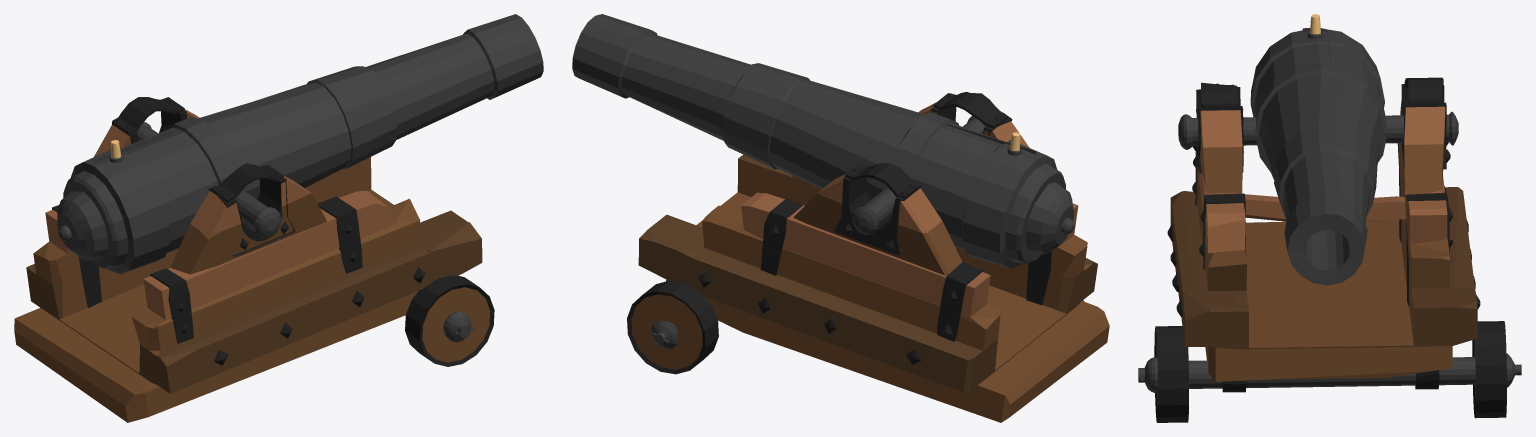
Rendered from cannon.glb.
3 views of the same model, side by side, from view 1: azimuth 30°, elevation 25°; view 2: azimuth 150°, elevation 25°; view 3: azimuth 270°, elevation 25° (orthographic). The views are drawn at different scales.
Visible parts, largest first — view 1: cannon; view 2: cannon; view 3: cannon.
Part boxes in pixels (left/top/right/bottom): cannon: left=14, top=14, right=543, bottom=422; cannon: left=572, top=14, right=1109, bottom=422; cannon: left=1138, top=14, right=1521, bottom=422.
Bounding box in the file's own units: 1.33 × 0.6844 × 0.848.
